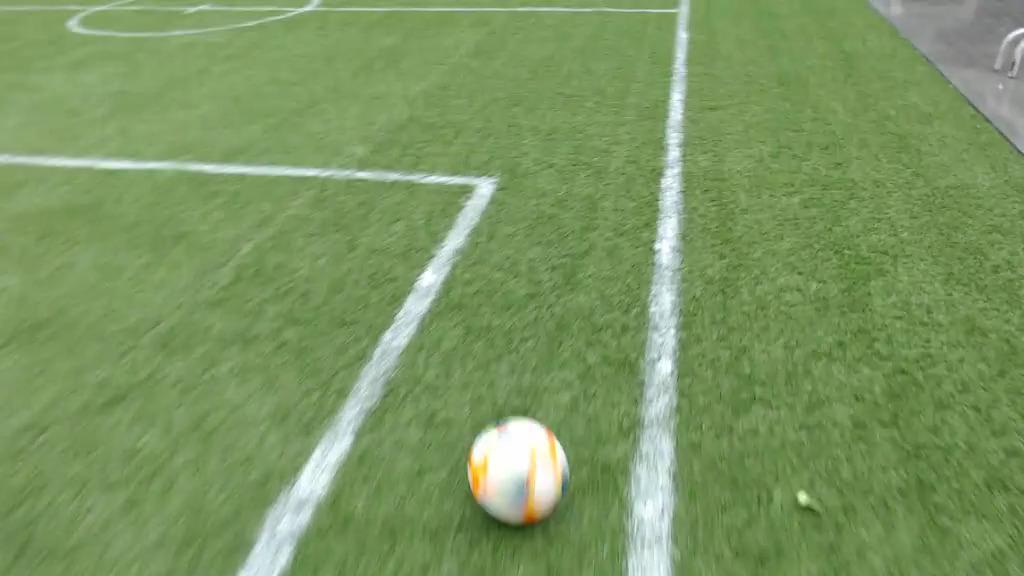ball: (472, 417, 574, 526)
